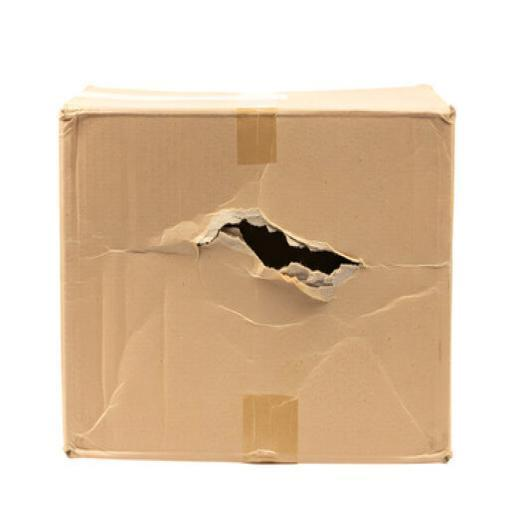torn: (68, 120, 450, 448)
